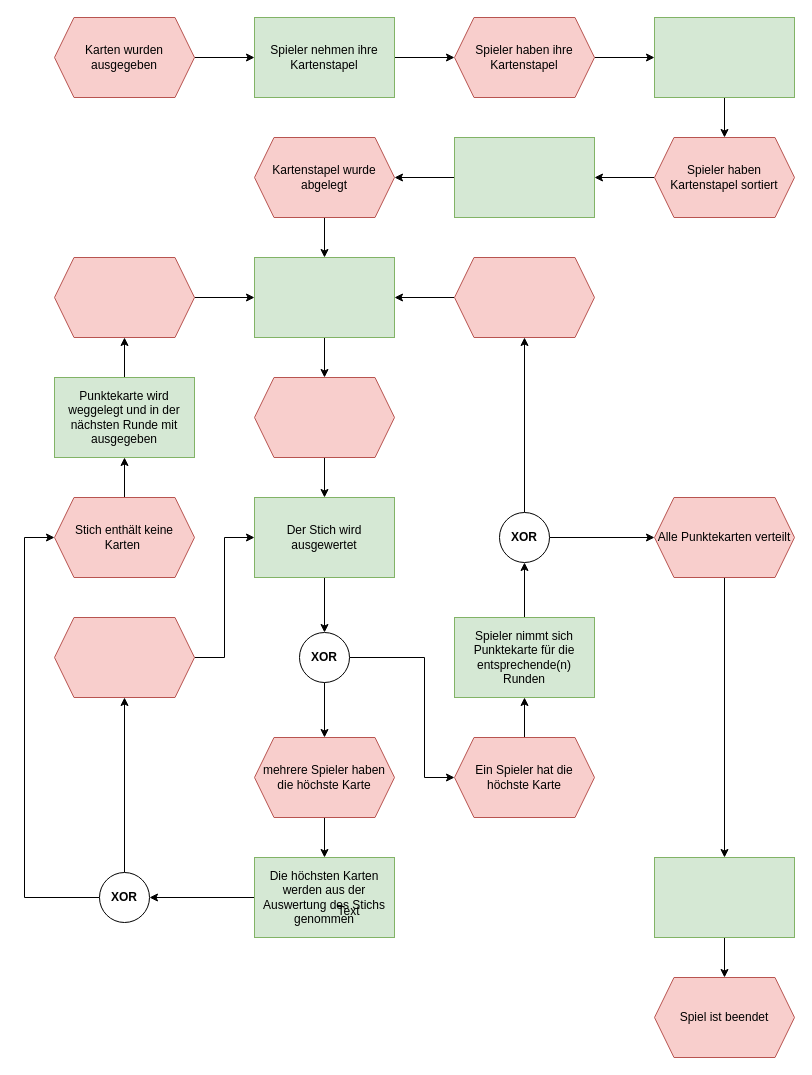
The diagram is 812 pixels wide and 1075 high, and some of its shapes have lost their labels. Each missing label, with the centre of its shape:
"nicht alle Punktekarten verteilt" belongs at (x=524, y=297).
"Punktekarte wurde weggelegt" belongs at (x=124, y=297).
"Spieler legen Kartenstapel verdeckt vor sich ab" belongs at (x=524, y=177).
"Spieler legen nacheinander ihre oberste Karte in die Mitte" belongs at (x=324, y=297).
"Spieler mit der höchsten Summe an Punktekarten gewinnt das Spiel" belongs at (x=724, y=897).
"Spieler sortieren Karten nach der Reihenfolge in der sie diese spielen wollen" belongs at (x=724, y=57).
"Stich enthält Karten" belongs at (x=124, y=657).
"Stich wurde ausgespielt" belongs at (x=324, y=417).
